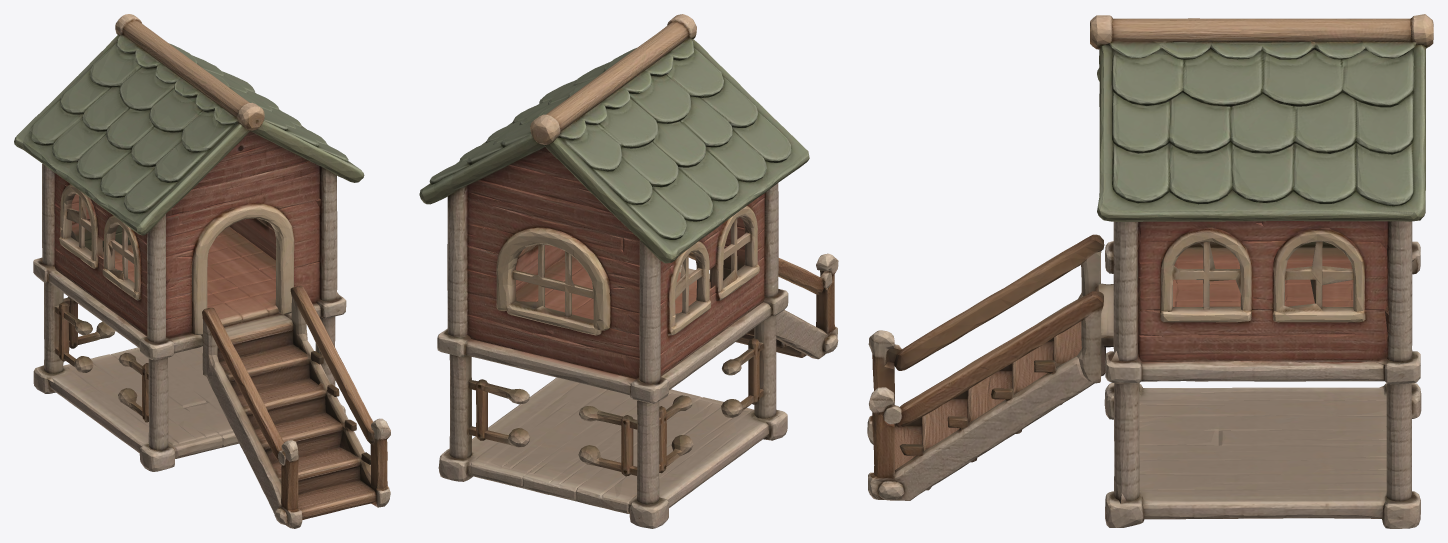
Rendered from DOM_budka_8__stone.glb.
The picture shows the model from 3 angles, left to right: view 1: azimuth 30°, elevation 25°; view 2: azimuth 150°, elevation 25°; view 3: azimuth 270°, elevation 25°; orthographic projection. The views are drawn at different scales.
Visible parts, largest first — view 1: tripo_node_ac6729f5-73c2-4e4e-95e1-3ff5b1cdb705; view 2: tripo_node_ac6729f5-73c2-4e4e-95e1-3ff5b1cdb705; view 3: tripo_node_ac6729f5-73c2-4e4e-95e1-3ff5b1cdb705.
Boxes of the visible parts, x1,y1,x2,y2 form: tripo_node_ac6729f5-73c2-4e4e-95e1-3ff5b1cdb705: (14,14,390,528); tripo_node_ac6729f5-73c2-4e4e-95e1-3ff5b1cdb705: (419,14,838,528); tripo_node_ac6729f5-73c2-4e4e-95e1-3ff5b1cdb705: (867,14,1433,528).
Size of the model in its own units: 2.76 by 4 by 4.52.
1 material, 1 textured.
